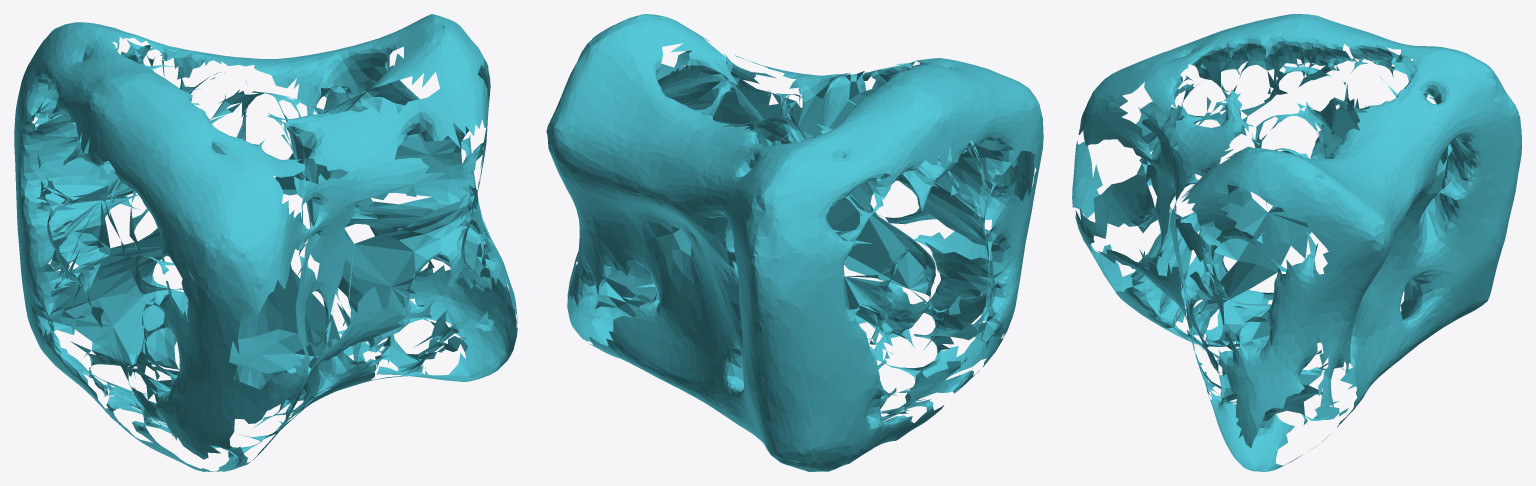
3 renders of one model, left to right at view 1: azimuth 30°, elevation 25°; view 2: azimuth 150°, elevation 25°; view 3: azimuth 270°, elevation 25°, orthographic. The views are drawn at different scales.
Visible parts, largest first — view 1: Renderer Node; view 2: Renderer Node; view 3: Renderer Node.
Boxes of the visible parts, x1,y1,x2,y2 form: Renderer Node: [14, 14, 517, 471]; Renderer Node: [546, 14, 1043, 471]; Renderer Node: [1072, 14, 1521, 471].
Size of the model in its own units: 0.4704 by 0.4056 by 0.5191.
1 material, 1 textured.
